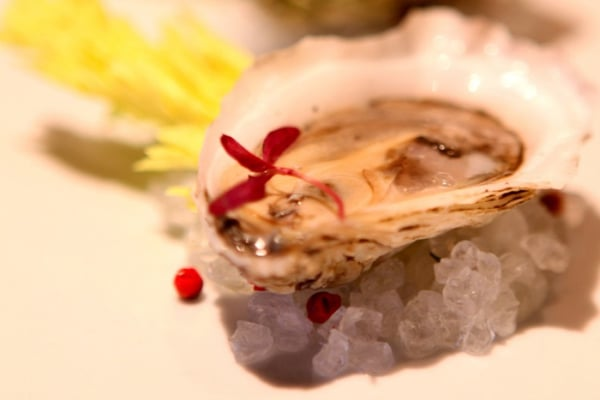sushi: (191, 10, 599, 383)
